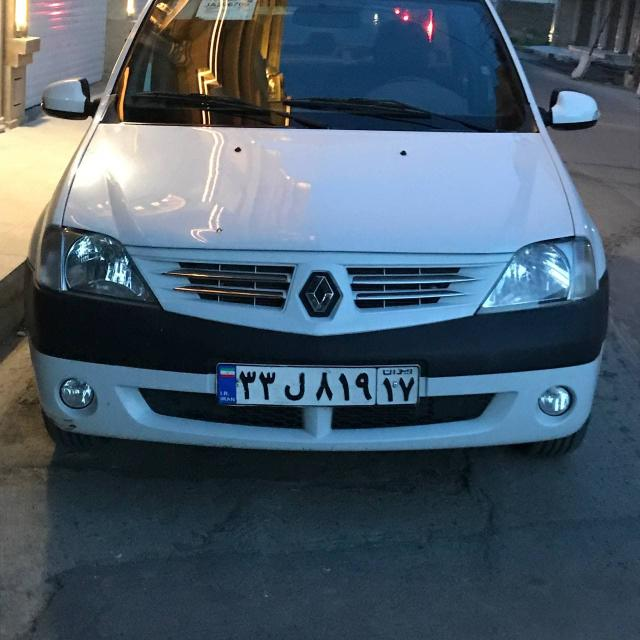Plates: (218, 364, 418, 406)
